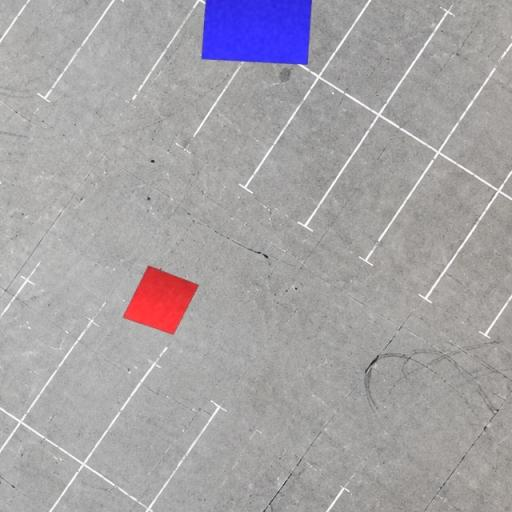BLUE_SQUARE: (201, 0, 315, 66)
RED_SQUARE: (122, 265, 200, 335)
